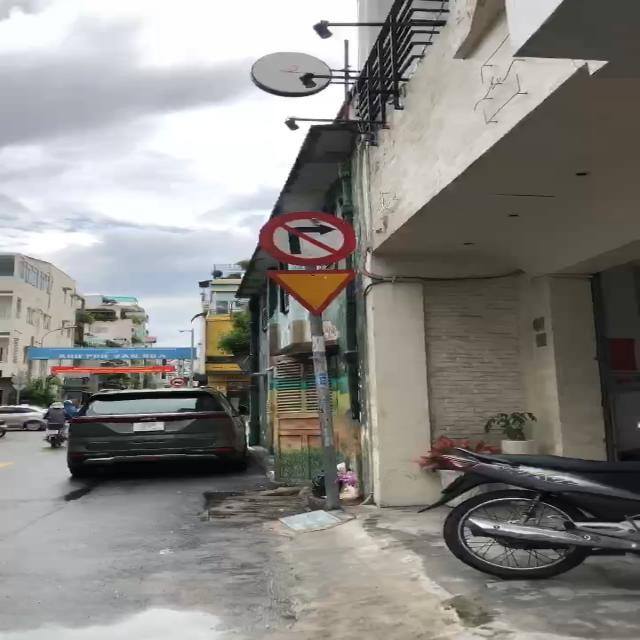Bien bao cam re phai: (255, 208, 367, 268)
Bien bao giao nhau voi duong uu tien: (259, 266, 377, 323)
